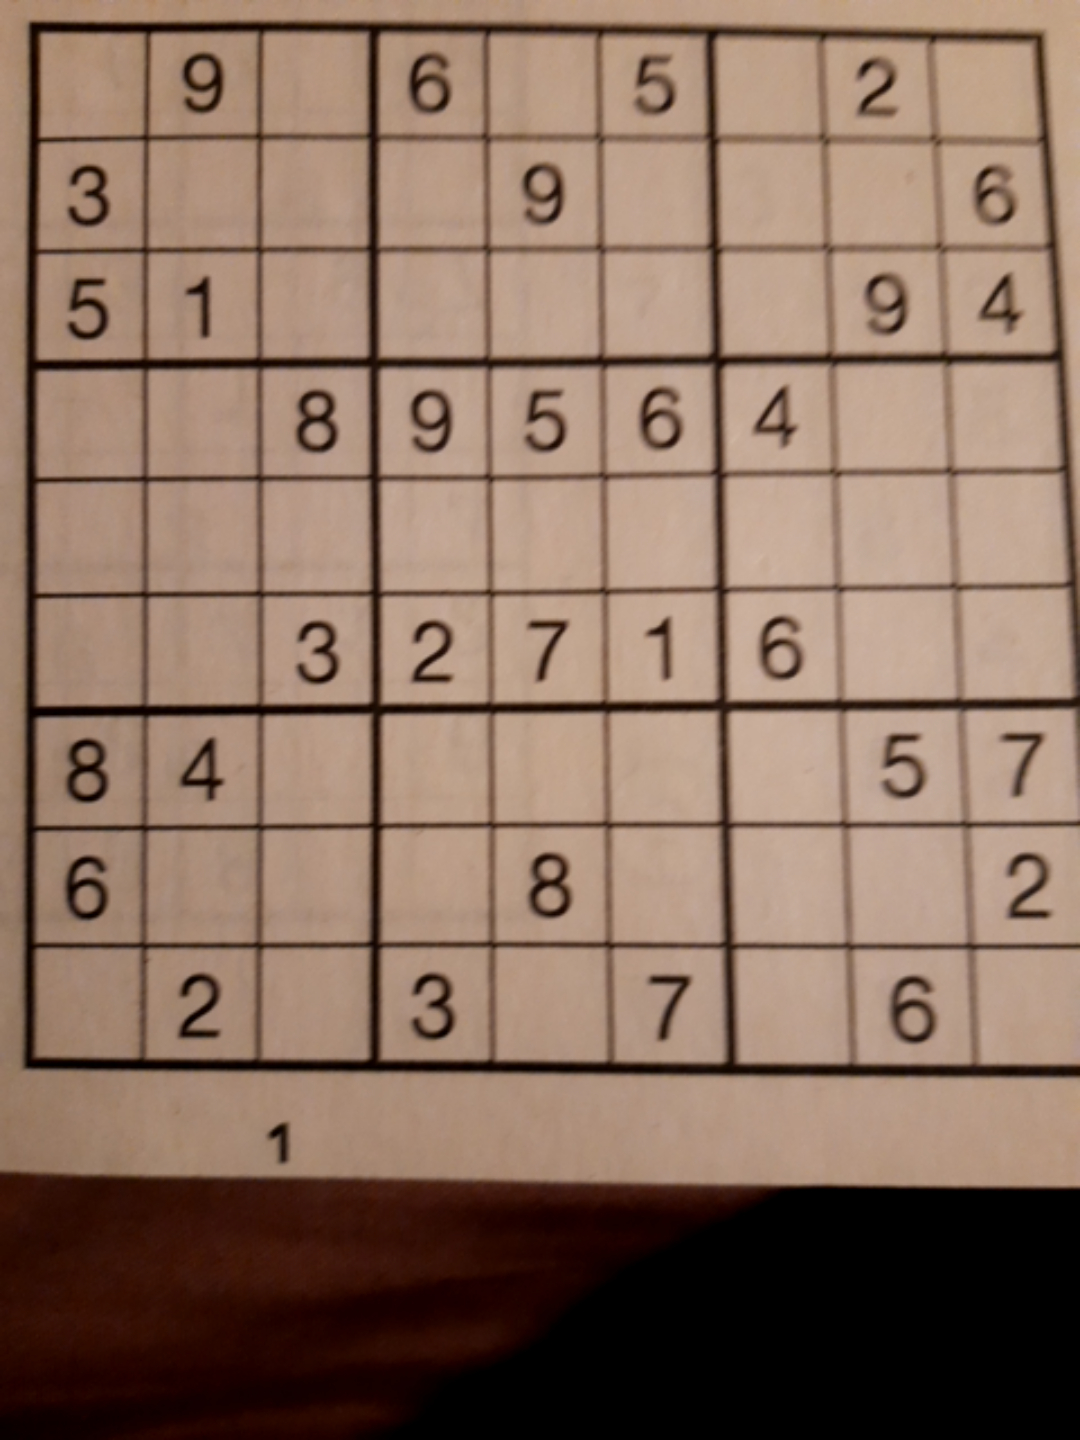sudoku: (21, 19, 1080, 1070)
